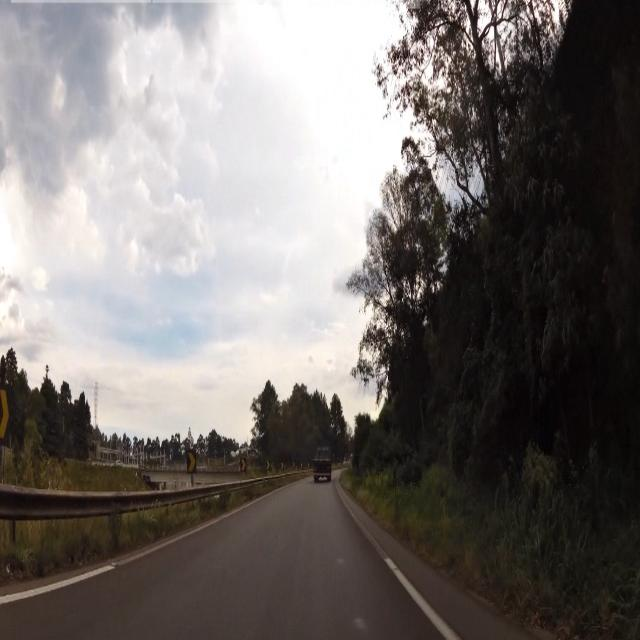Del: (186, 451, 196, 473)
